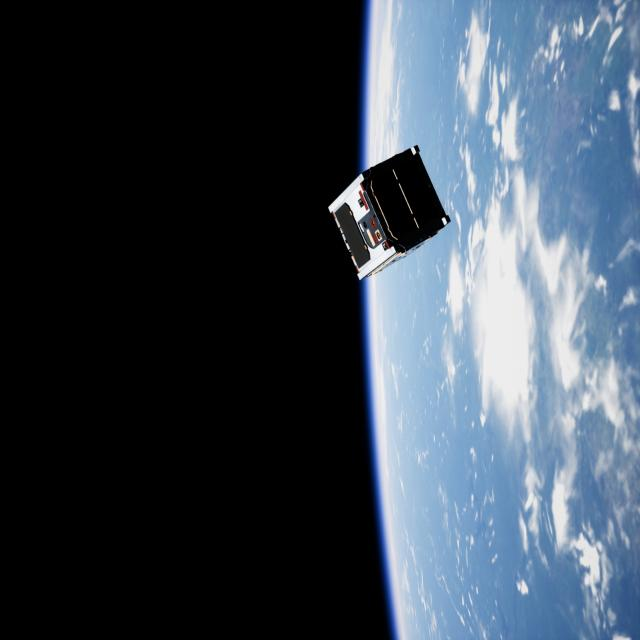medium_debris: (321, 145, 459, 283)
